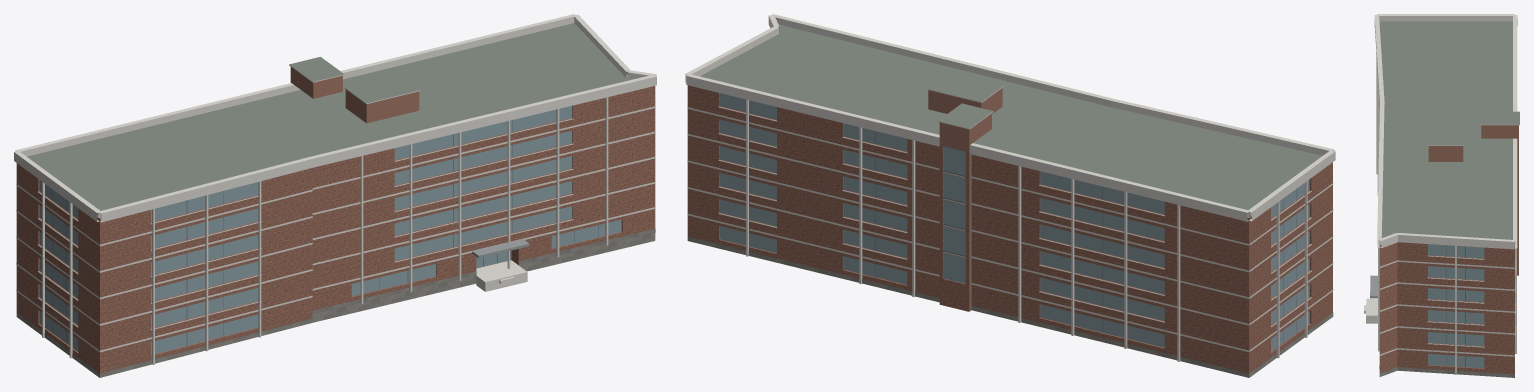
The picture shows the model from 3 angles, left to right: view 1: azimuth 30°, elevation 25°; view 2: azimuth 150°, elevation 25°; view 3: azimuth 270°, elevation 25°; orthographic projection. The views are drawn at different scales.
Parts seen in each view (by area): view 1: hum5__wall, hum5__roof, hum5__trim, hum5__glass, hum5__base, hum5__wall2, hum5__entranceStair, hum5__frame; view 2: hum5__wall, hum5__roof, hum5__trim, hum5__glass, hum5__base, hum5__wall2; view 3: hum5__roof, hum5__wall, hum5__trim, hum5__glass, hum5__wall2, hum5__base, hum5__entranceStair, hum5__canopy.
Boxes of the visible parts, x1,y1,x2,y2 form: hum5__wall: [16, 86, 655, 377]; hum5__roof: [27, 23, 649, 322]; hum5__trim: [14, 14, 656, 364]; hum5__glass: [39, 106, 621, 354]; hum5__base: [16, 228, 655, 377]; hum5__wall2: [290, 67, 419, 123]; hum5__entranceStair: [476, 260, 527, 291]; hum5__frame: [52, 120, 598, 345]; hum5__wall: [687, 85, 1332, 377]; hum5__roof: [700, 24, 1322, 217]; hum5__trim: [685, 14, 1335, 361]; hum5__glass: [720, 93, 1309, 351]; hum5__base: [687, 236, 1333, 377]; hum5__wall2: [928, 88, 1002, 311]; hum5__roof: [1379, 21, 1519, 245]; hum5__wall: [1379, 242, 1514, 376]; hum5__trim: [1374, 14, 1519, 374]; hum5__glass: [1428, 244, 1484, 368]; hum5__wall2: [1428, 125, 1518, 275]; hum5__base: [1379, 366, 1514, 377]; hum5__entranceStair: [1364, 298, 1377, 323]; hum5__canopy: [1370, 275, 1377, 298].
Size of the model in its own units: 80.23 by 25.13 by 23.19.
Materials: 10 (2 with a texture image).
